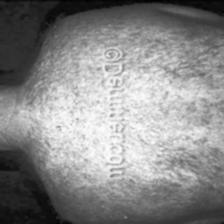Unclassified: (129, 37, 224, 198), (32, 46, 102, 198)
